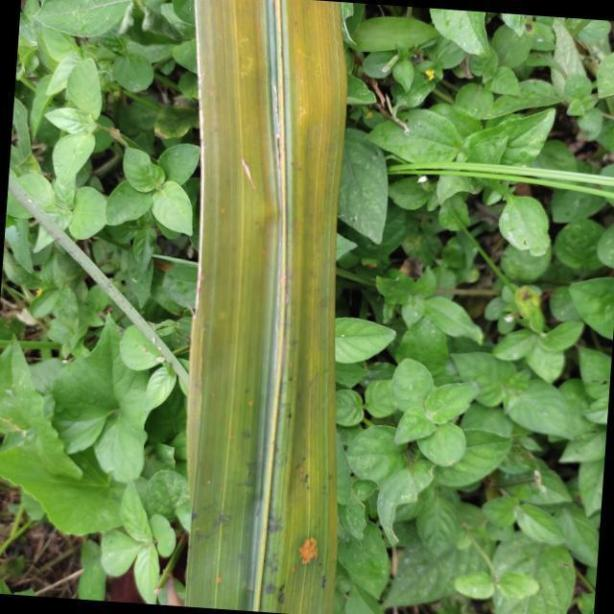Megnesium: (189, 0, 345, 614)
